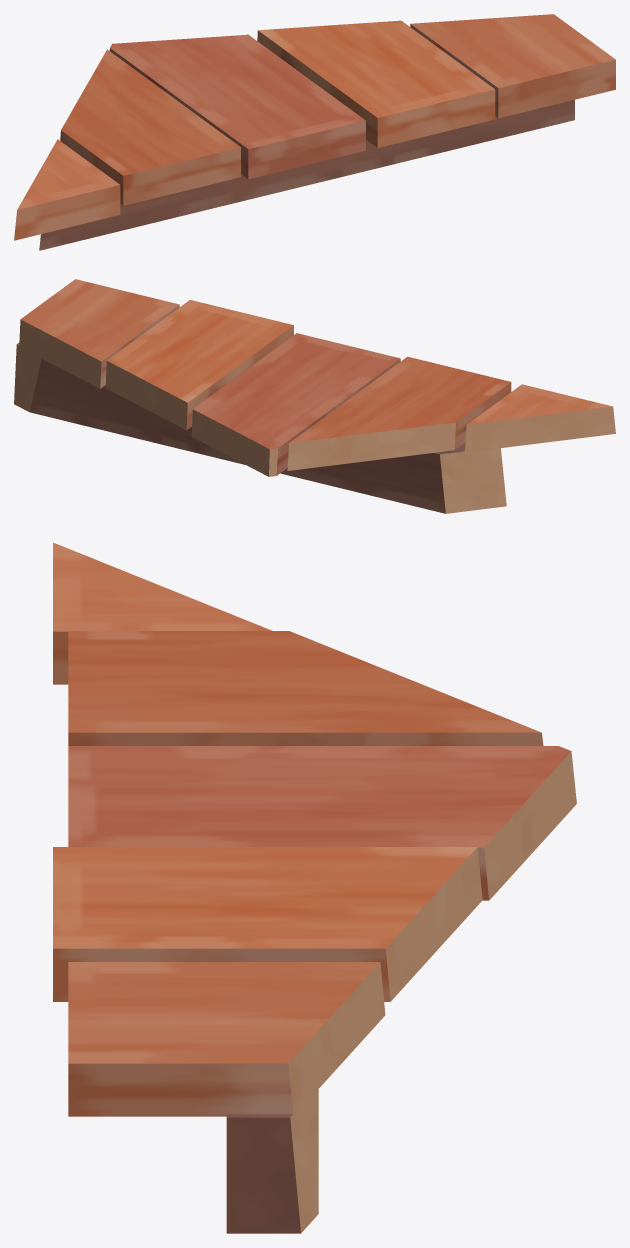
The model's file is plank_s05.fbx.
3 views of the same model, one above another, from view 1: azimuth 30°, elevation 25°; view 2: azimuth 150°, elevation 25°; view 3: azimuth 270°, elevation 25° (orthographic). The views are drawn at different scales.
Parts seen in each view (by area): view 1: plank_s05; view 2: plank_s05; view 3: plank_s05.
Part boxes in pixels (x1,y1,x2,y2): plank_s05: [14, 14, 615, 250]; plank_s05: [14, 279, 615, 513]; plank_s05: [53, 542, 576, 1233].
Size of the model in its own units: 4.88 by 0.75 by 2.05.
